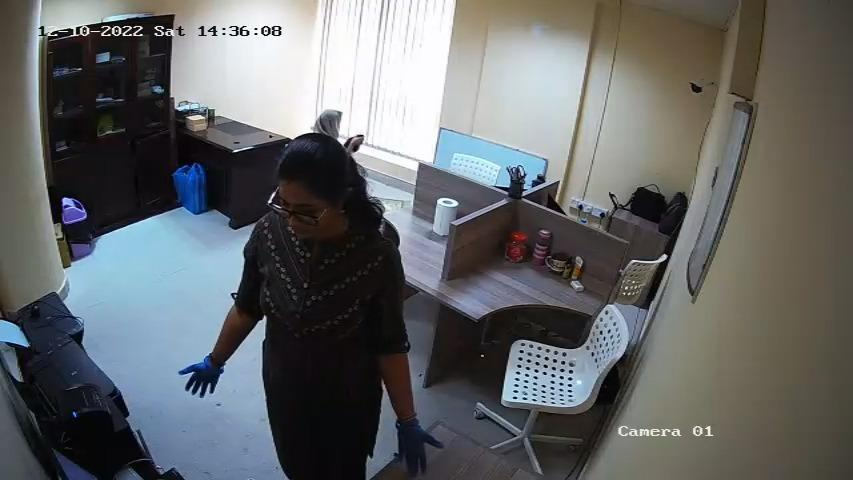apron: (396, 420, 448, 480), (180, 354, 225, 400)
no_apron: (345, 132, 372, 161)
no_gloves: (259, 144, 357, 200), (301, 98, 342, 134)
no_hairnet: (270, 206, 344, 250)
